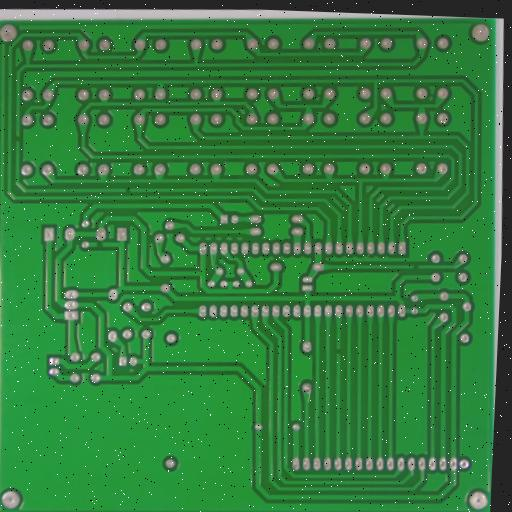open_circuit: (93, 239, 105, 249), (409, 262, 421, 271), (123, 184, 132, 195), (13, 133, 21, 145), (333, 346, 342, 356)
